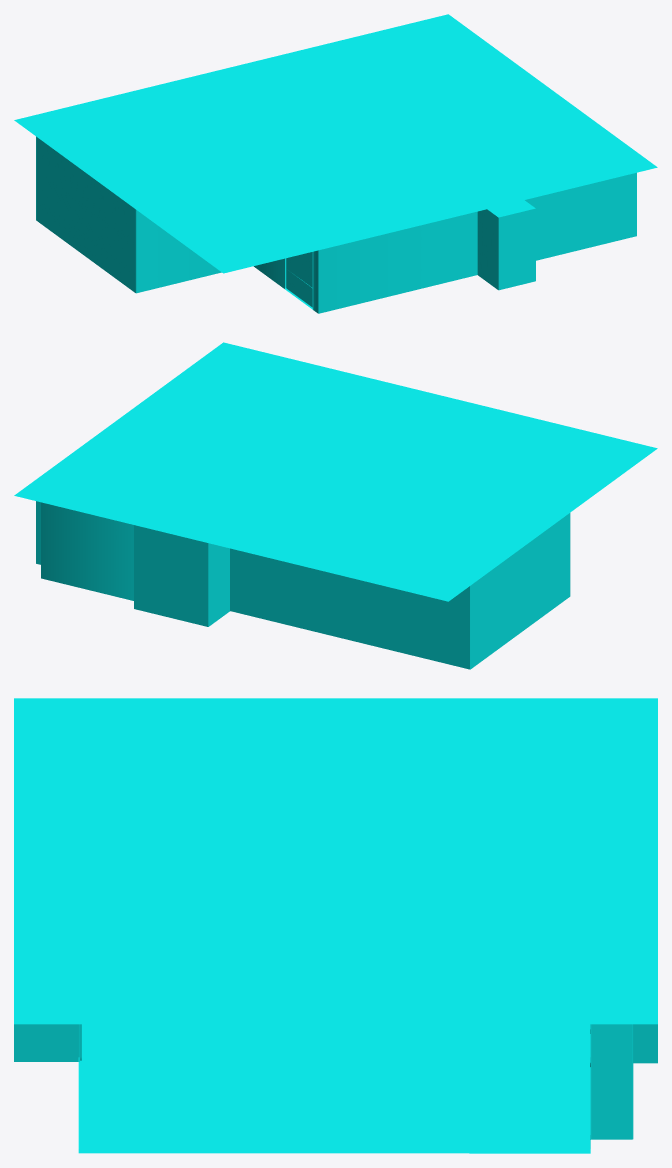
The model's file is Atlas_Room.fbx.
The picture shows the model from 3 angles, top to bottom: view 1: azimuth 30°, elevation 25°; view 2: azimuth 150°, elevation 25°; view 3: azimuth 270°, elevation 25°; orthographic projection. The views are drawn at different scales.
Parts seen in each view (by area): view 1: JapanMainRoom, SlidingDoorExit_Cornice; view 2: JapanMainRoom; view 3: JapanMainRoom.
Boxes of the visible parts, x1,y1,x2,y2 form: JapanMainRoom: (14, 14, 657, 313); SlidingDoorExit_Cornice: (285, 252, 312, 307); JapanMainRoom: (14, 342, 657, 669); JapanMainRoom: (14, 698, 657, 1153).
Bounding box in the file's own units: 1702 × 314 × 1421.
